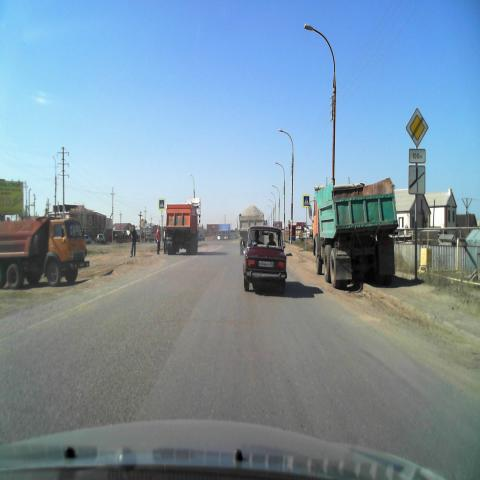2_2: (406, 106, 428, 148)
5_19_1: (303, 195, 310, 207), (159, 199, 165, 209)
8_13: (407, 164, 426, 194)
